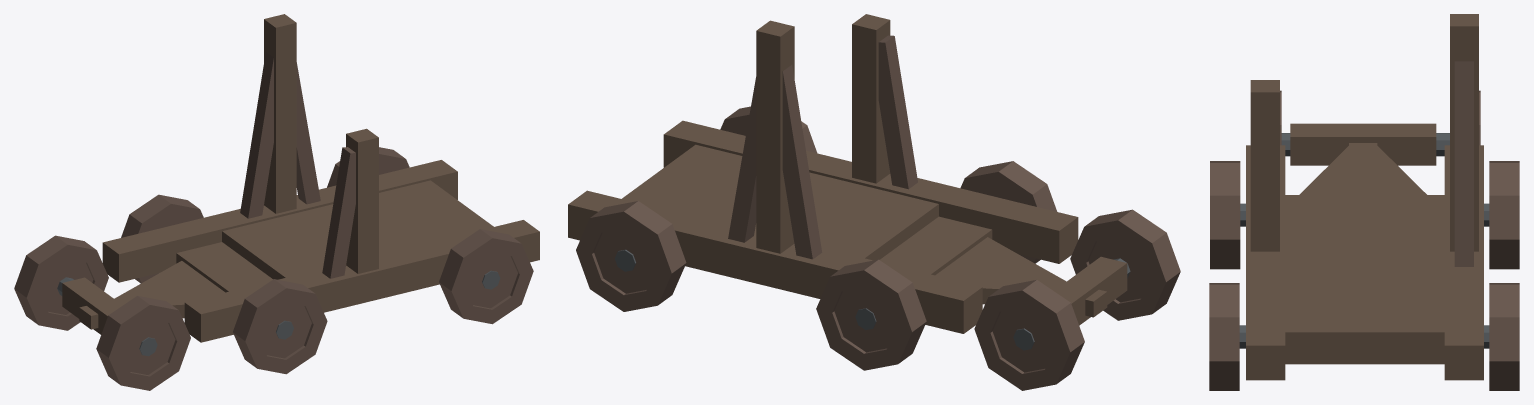
File: catapult_broken.glb
3 views of the same model, side by side, from view 1: azimuth 30°, elevation 25°; view 2: azimuth 150°, elevation 25°; view 3: azimuth 270°, elevation 25° (orthographic). The views are drawn at different scales.
Parts seen in each view (by area): view 1: Catapult.024; view 2: Catapult.024; view 3: Catapult.024.
Part boxes in pixels (x1,y1,x2,y2): Catapult.024: (14, 14, 539, 390); Catapult.024: (568, 14, 1180, 390); Catapult.024: (1209, 14, 1519, 390).
Bounding box in the file's own units: 0.1674 × 0.0941 × 0.0866.
